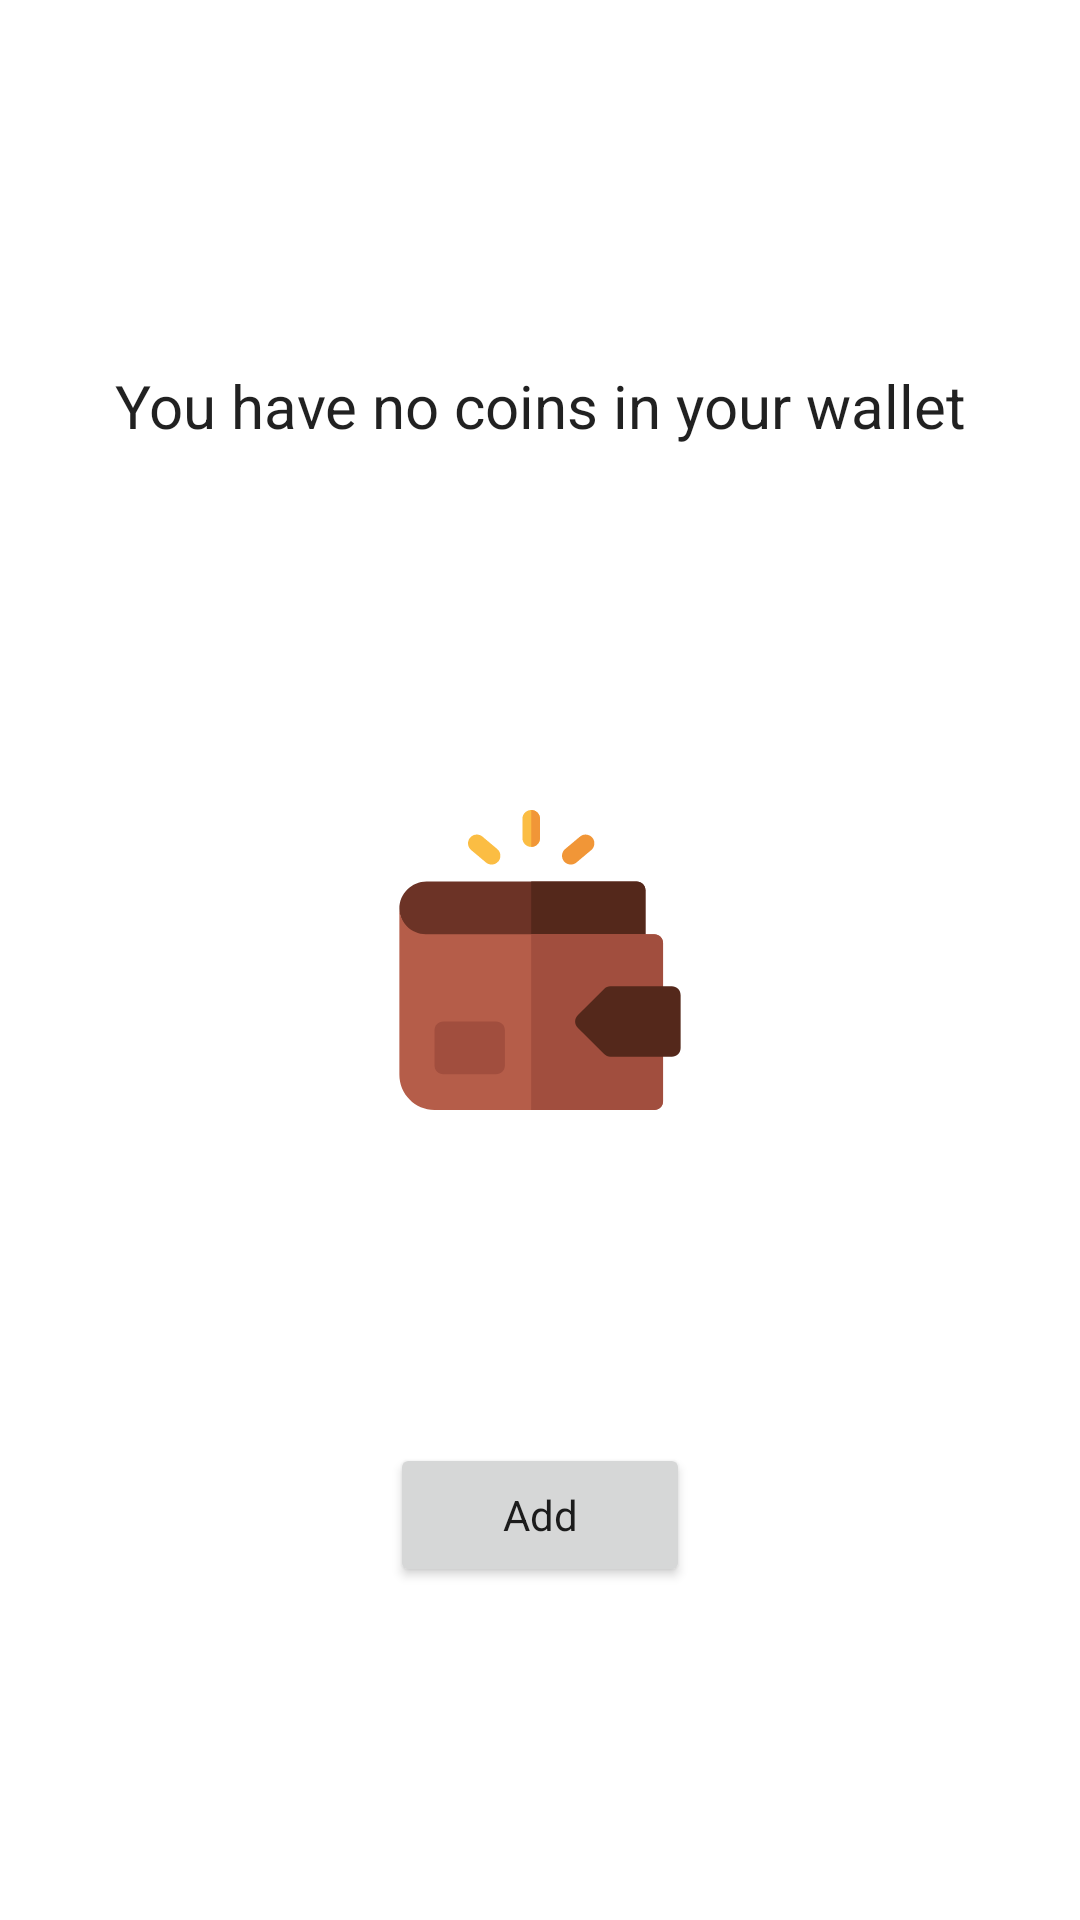

Icons on this 1080×1920 Android screen, each with its box as {"x1": x1, "y1": y1, "x2": x2, "y2": y2}:
empty wallet: {"x1": 399, "y1": 810, "x2": 681, "y2": 1110}
